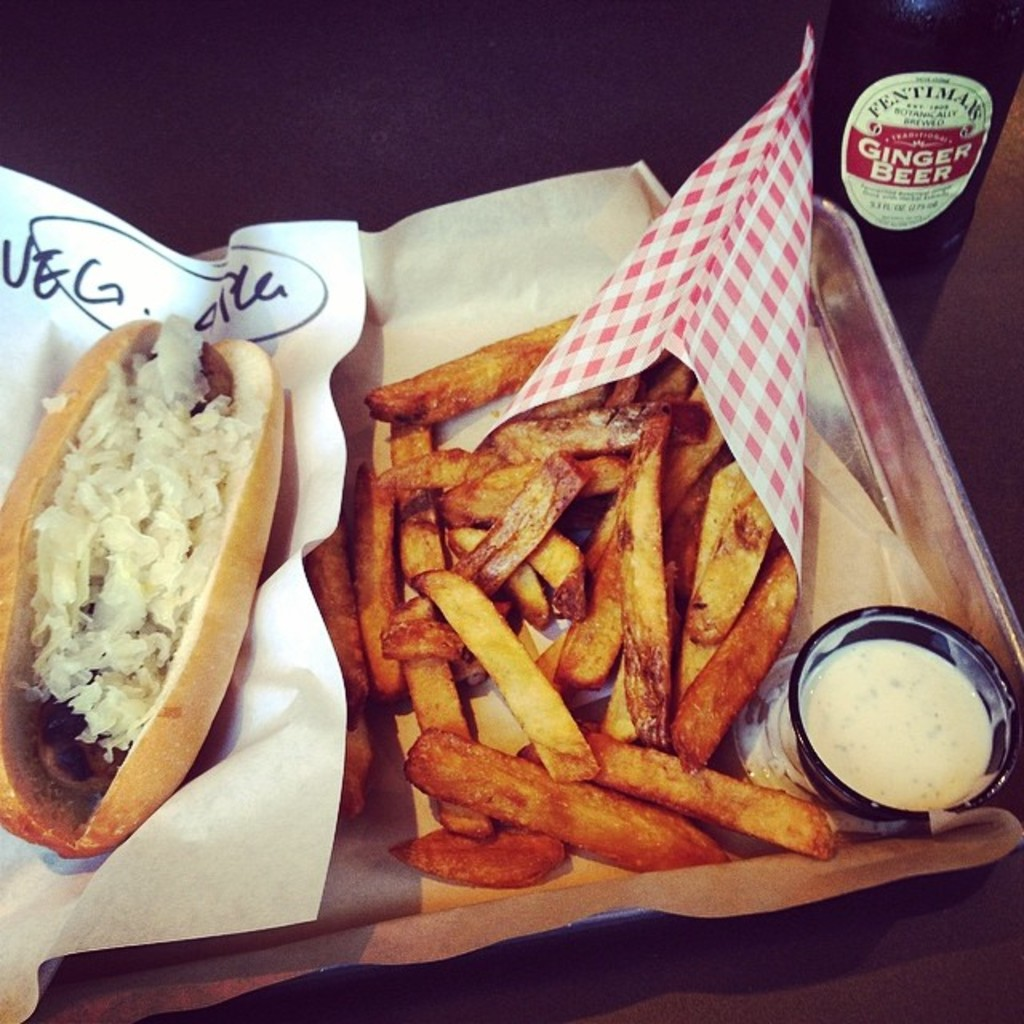French fries: (299, 297, 836, 884)
